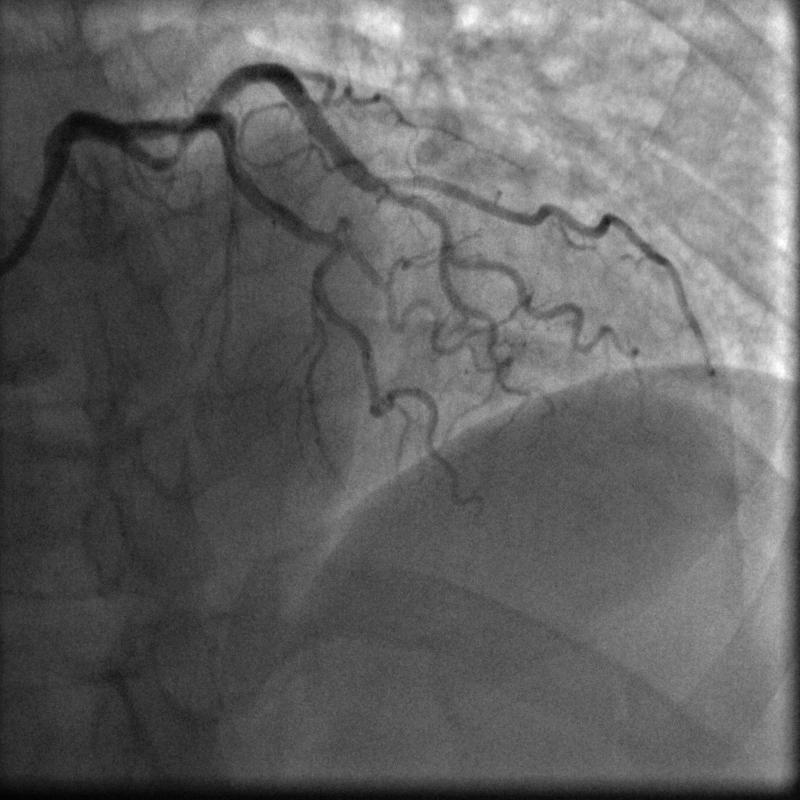Stenosis: (153, 129, 195, 167)
